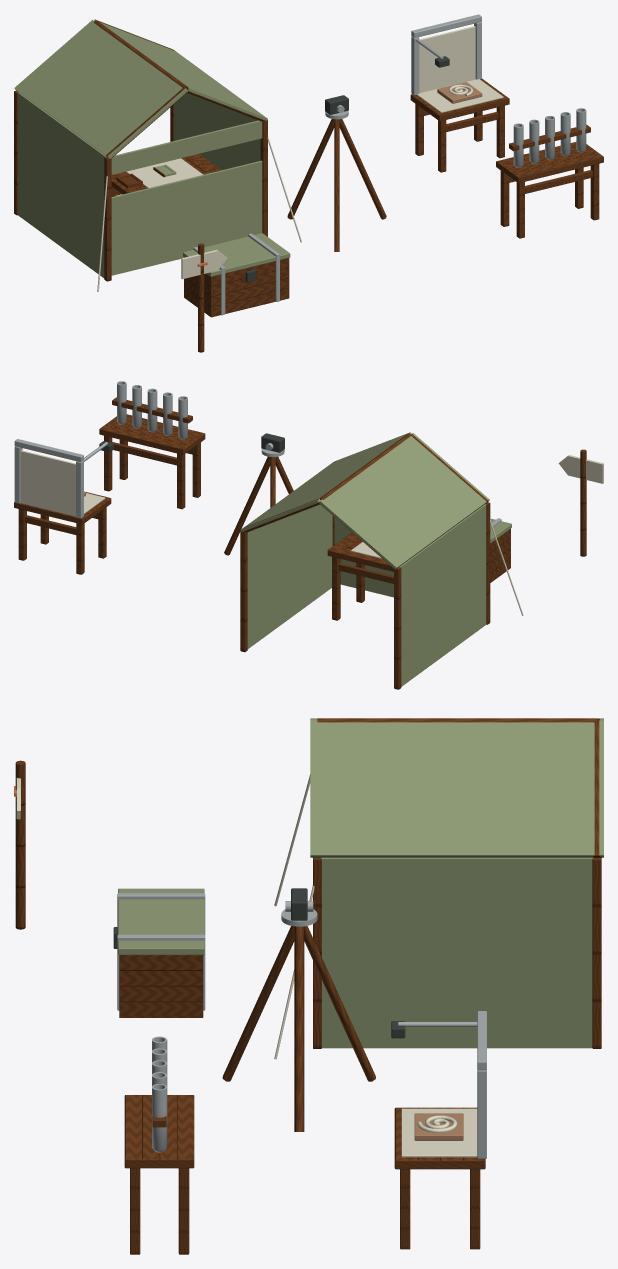
Rendered from prehistoric-expedition-sites-expedition-observation-ca-b80a8b29__26146.glb.
The picture shows the model from 3 angles, top to bottom: view 1: azimuth 30°, elevation 25°; view 2: azimuth 150°, elevation 25°; view 3: azimuth 270°, elevation 25°; orthographic projection. The views are drawn at different scales.
Parts seen in each view (by area): view 1: 000-observation-hide/1, 006-core-sample-rack/0, 004-sample-photography-stand/2, 000-observation-hide/0, 007-field-supply-cache/0, 004-sample-photography-stand/0, 003-tripod-survey-frame/0, 006-core-sample-rack/1, 007-field-supply-cache/lid/canvas, 004-sample-photography-stand/1, 001-field-sketch-table/1, 001-field-sketch-table/0 (+5 smaller); view 2: 000-observation-hide/1, 006-core-sample-rack/0, 000-observation-hide/0, 004-sample-photography-stand/2, 004-sample-photography-stand/0, 001-field-sketch-table/0, 006-core-sample-rack/1, 004-sample-photography-stand/1, 003-tripod-survey-frame/0, 007-field-supply-cache/0, 008-expedition-waymarker/1, 008-expedition-waymarker/0; view 3: 000-observation-hide/1, 006-core-sample-rack/0, 000-observation-hide/0, 003-tripod-survey-frame/0, 007-field-supply-cache/0, 007-field-supply-cache/lid/canvas, 004-sample-photography-stand/0, 004-sample-photography-stand/2, 004-sample-photography-stand/1, 007-field-supply-cache/2, 006-core-sample-rack/1, 008-expedition-waymarker/0 (+2 smaller).
Part boxes in pixels (x1,y1,x2,y2): 000-observation-hide/1: (14, 19, 267, 278); 006-core-sample-rack/0: (496, 124, 603, 238); 004-sample-photography-stand/2: (417, 26, 503, 112); 000-observation-hide/0: (14, 20, 267, 281); 007-field-supply-cache/0: (184, 258, 289, 317); 004-sample-photography-stand/0: (410, 78, 509, 172); 003-tripod-survey-frame/0: (287, 119, 386, 251); 006-core-sample-rack/1: (513, 108, 586, 167); 007-field-supply-cache/lid/canvas: (183, 233, 290, 276); 004-sample-photography-stand/1: (411, 14, 481, 95); 001-field-sketch-table/1: (126, 158, 203, 188); 001-field-sketch-table/0: (111, 154, 221, 196); 000-observation-hide/1: (241, 432, 489, 686); 006-core-sample-rack/0: (99, 397, 205, 509); 000-observation-hide/0: (240, 433, 490, 689); 004-sample-photography-stand/2: (20, 450, 105, 516); 004-sample-photography-stand/0: (14, 491, 111, 574); 001-field-sketch-table/0: (327, 532, 393, 620); 006-core-sample-rack/1: (117, 381, 187, 439); 004-sample-photography-stand/1: (14, 439, 107, 518); 003-tripod-survey-frame/0: (224, 456, 293, 555); 007-field-supply-cache/0: (490, 529, 510, 582); 008-expedition-waymarker/1: (558, 455, 603, 483); 008-expedition-waymarker/0: (580, 449, 586, 556); 000-observation-hide/1: (310, 718, 603, 1048); 006-core-sample-rack/0: (124, 1095, 194, 1254); 000-observation-hide/0: (313, 718, 601, 1048); 003-tripod-survey-frame/0: (222, 926, 375, 1131); 007-field-supply-cache/0: (119, 955, 203, 1017); 007-field-supply-cache/lid/canvas: (118, 888, 204, 954); 004-sample-photography-stand/0: (394, 1107, 485, 1249); 004-sample-photography-stand/2: (401, 1108, 477, 1157); 004-sample-photography-stand/1: (398, 1011, 486, 1158); 007-field-supply-cache/2: (117, 893, 205, 1010); 006-core-sample-rack/1: (152, 1036, 167, 1152); 008-expedition-waymarker/0: (15, 760, 25, 929).
Size of the model in its own units: 5.86 by 2.14 by 4.22.
7 materials, 1 textured.
